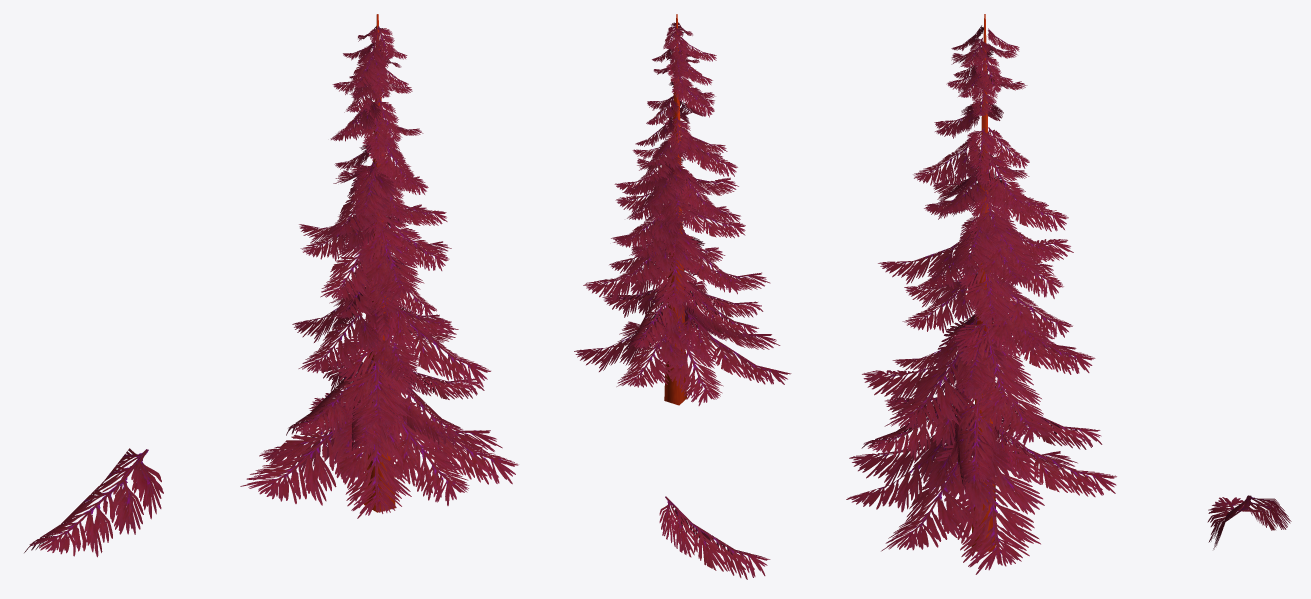
File: PineMobile4.fbx
3 views of the same model, side by side, from view 1: azimuth 30°, elevation 25°; view 2: azimuth 150°, elevation 25°; view 3: azimuth 270°, elevation 25° (orthographic). The views are drawn at different scales.
Visible parts, largest first — view 1: Cube; view 2: Cube; view 3: Cube.
Boxes of the visible parts, x1=… form: Cube: x1=24, y1=14, x2=518, y2=557; Cube: x1=574, y1=14, x2=791, y2=579; Cube: x1=846, y1=14, x2=1291, y2=574.
Bounding box in the file's own units: 1498 × 2249 × 1496.
